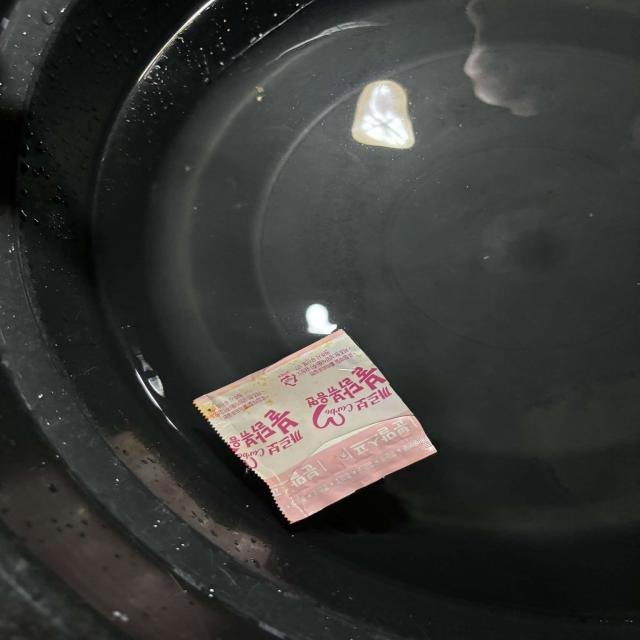Plastic Wrapper: (183, 316, 451, 532)
